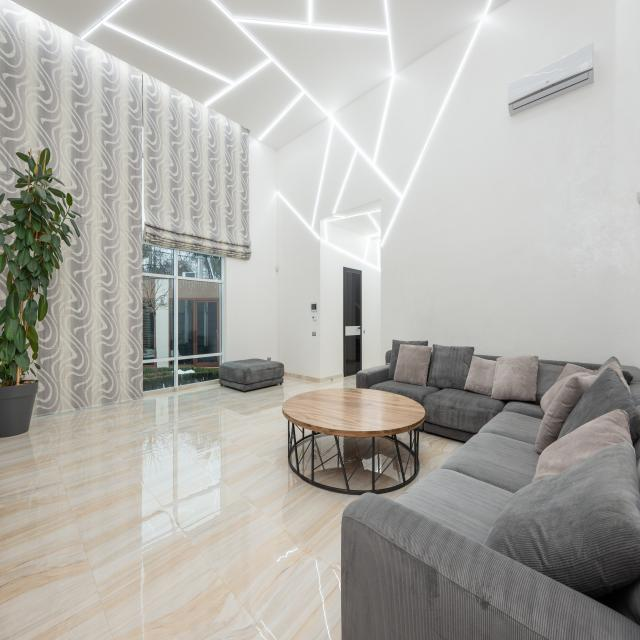floor: (0, 372, 361, 640), (377, 428, 467, 502), (314, 433, 348, 489), (336, 435, 372, 481), (348, 446, 372, 490), (375, 436, 398, 481), (375, 455, 403, 490), (297, 436, 312, 479), (398, 442, 410, 474), (405, 451, 414, 481), (396, 431, 410, 447), (290, 447, 297, 470), (294, 424, 302, 442), (304, 428, 312, 437), (297, 425, 303, 432), (290, 421, 292, 440), (412, 430, 414, 446)
wall: (276, 0, 640, 378), (225, 135, 278, 362), (320, 220, 381, 378)
